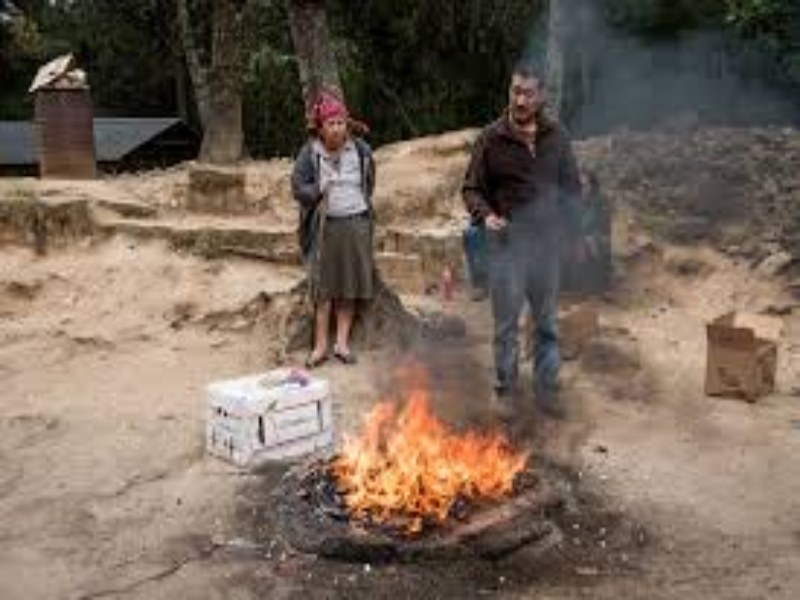smoke: (426, 203, 609, 411)
